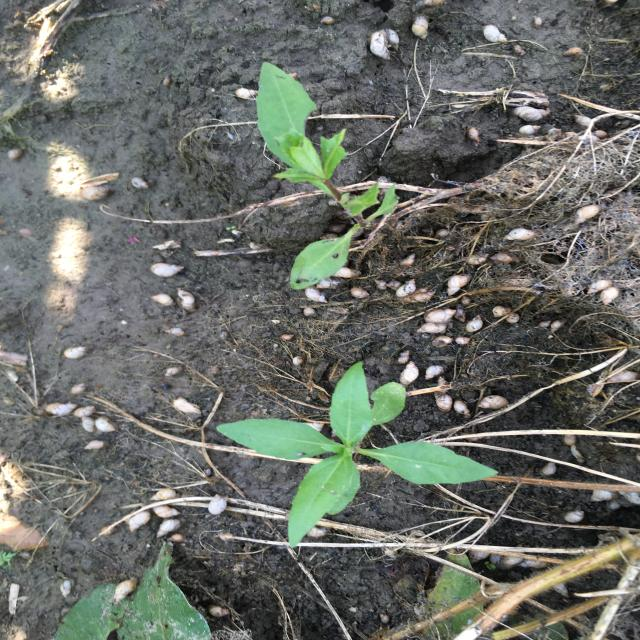Eclipta: (214, 360, 503, 549), (253, 61, 402, 292)
